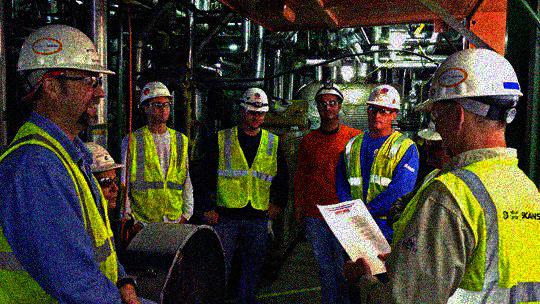helmet: (415, 47, 525, 153), (14, 22, 117, 126), (76, 138, 128, 210), (416, 115, 455, 169), (366, 82, 401, 130), (139, 79, 174, 126), (237, 87, 271, 130), (312, 81, 345, 121)
